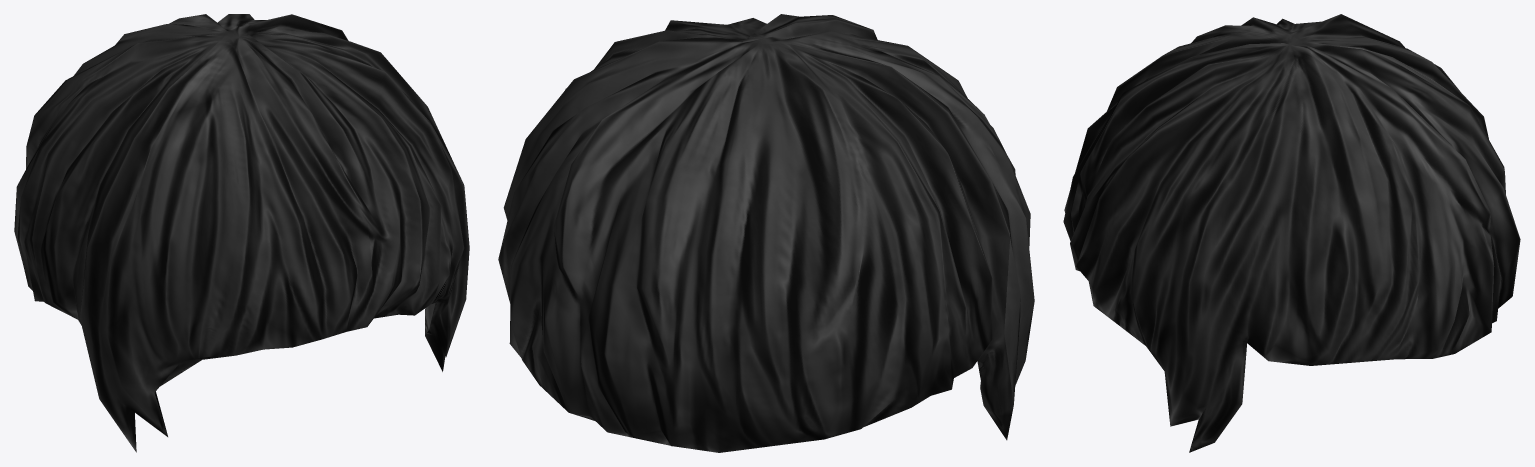
The model's file is AF_M_hair_10.fbx.
3 renders of one model, left to right at view 1: azimuth 30°, elevation 25°; view 2: azimuth 150°, elevation 25°; view 3: azimuth 270°, elevation 25°, orthographic. The views are drawn at different scales.
Parts seen in each view (by area): view 1: AF_M_hair_10; view 2: AF_M_hair_10; view 3: AF_M_hair_10.
Part boxes in pixels (x1,y1,x2,y2): AF_M_hair_10: (14,14,469,452); AF_M_hair_10: (498,14,1034,452); AF_M_hair_10: (1063,14,1520,452).
Bounding box in the file's own units: 714 × 611 × 746.
